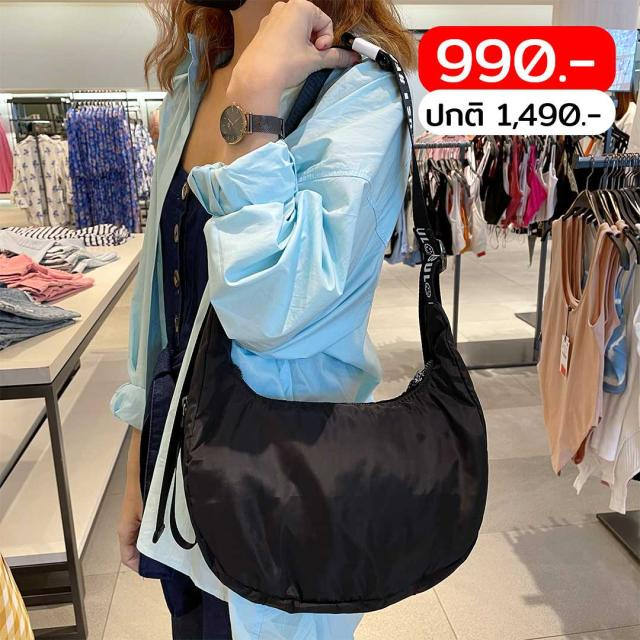Handbag: (180, 264, 488, 614)
